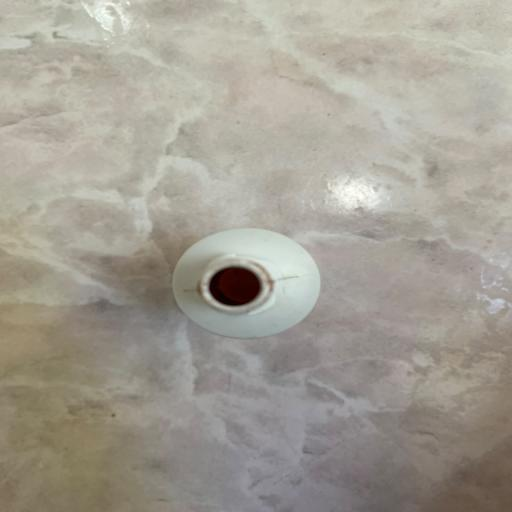HDPE: (141, 221, 363, 369)
